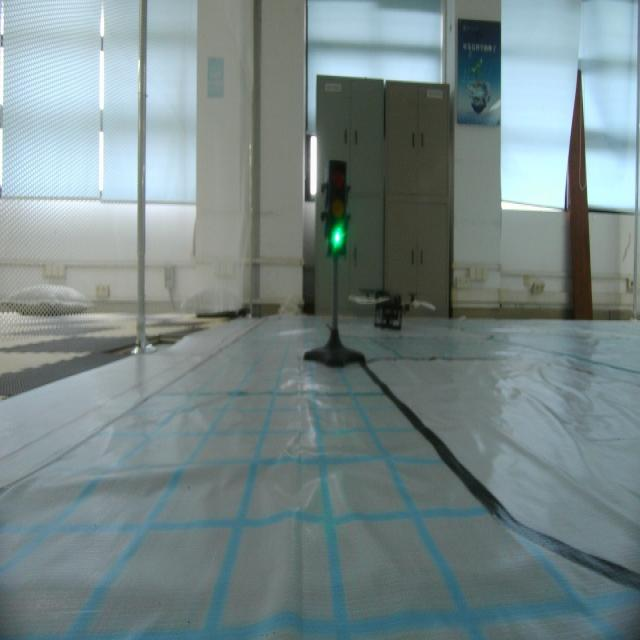green: (321, 154, 358, 262)
